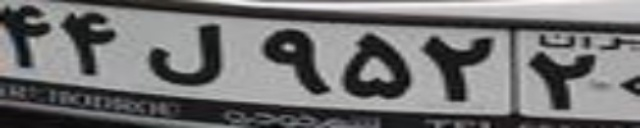0: (614, 71, 638, 99)
2: (419, 34, 496, 101), (527, 49, 595, 108)
4: (57, 11, 123, 76), (0, 4, 50, 69)
5: (338, 32, 409, 99)
9: (259, 27, 328, 95)
lam: (148, 23, 221, 87)
